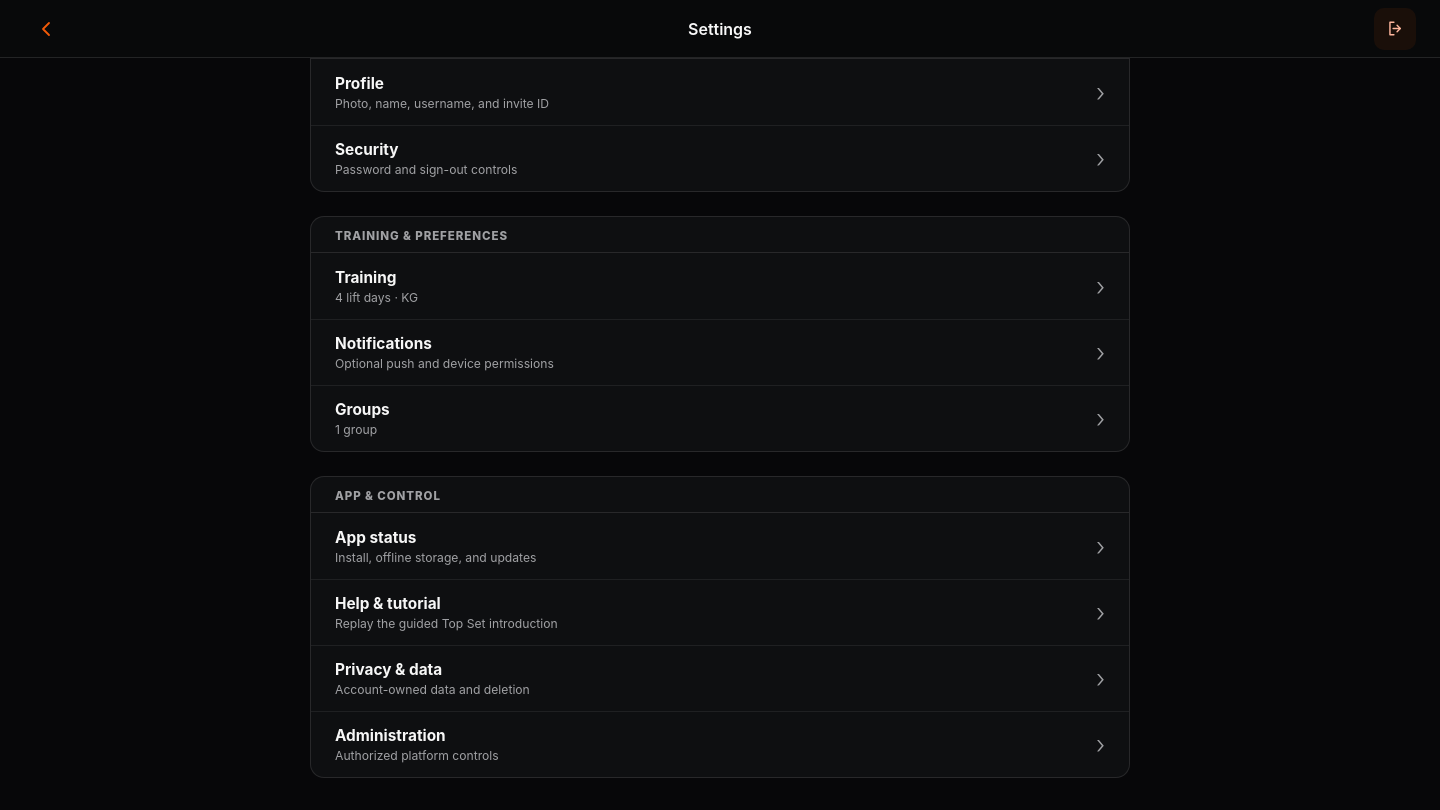
Scenario: SettingsScreen foundation › shows the Administration entry only after positive ACTIVE platform-admin authorization
(page scrolled)
Click the button "Administration" at (390, 736), box top-left (311, 711), bottom-right (1129, 777)
(page scrolled)
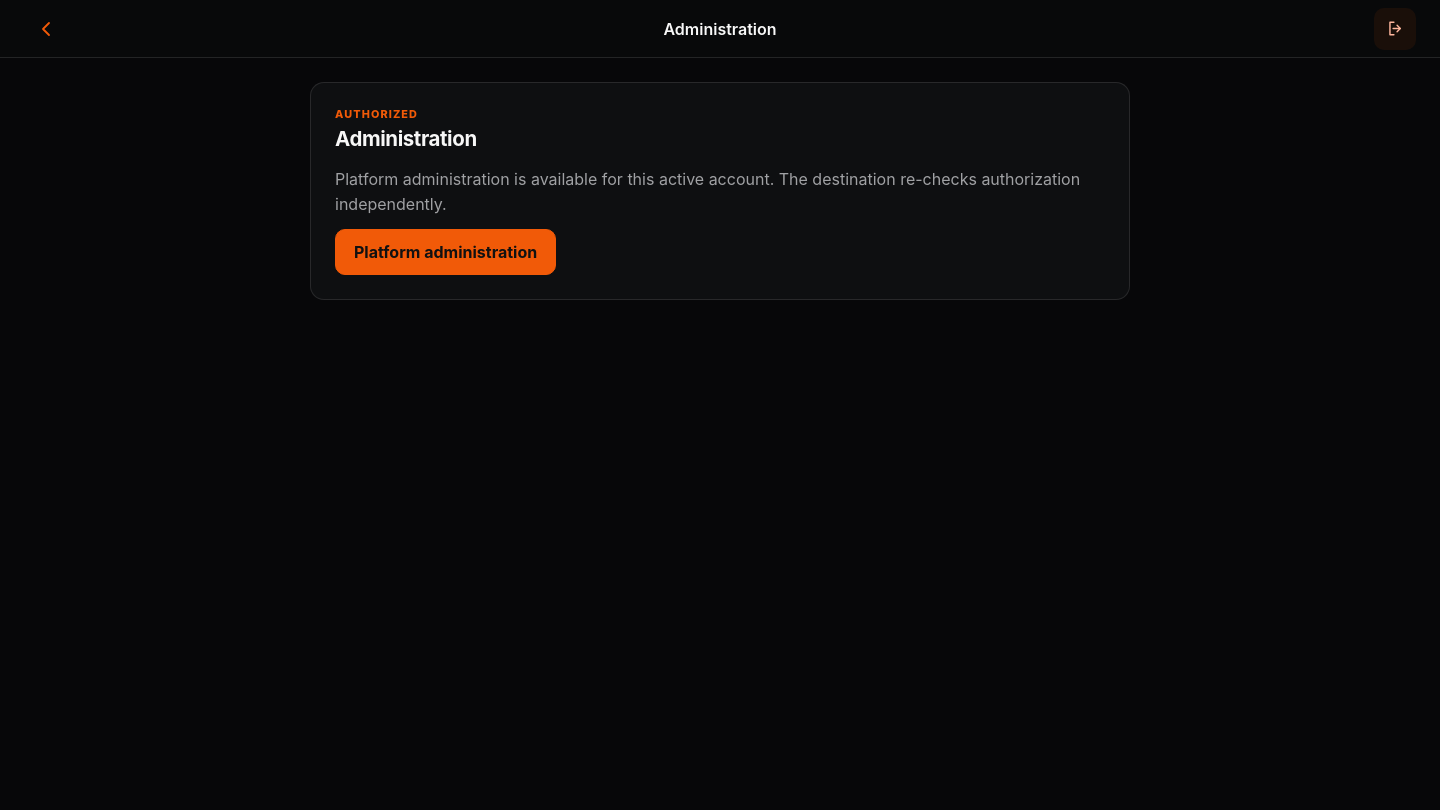
Now the 1st heading "Administration" is shown, box top-left (663, 16), bottom-right (777, 40)
Now the button "Platform administration" is shown, box top-left (335, 229), bottom-right (556, 275)
